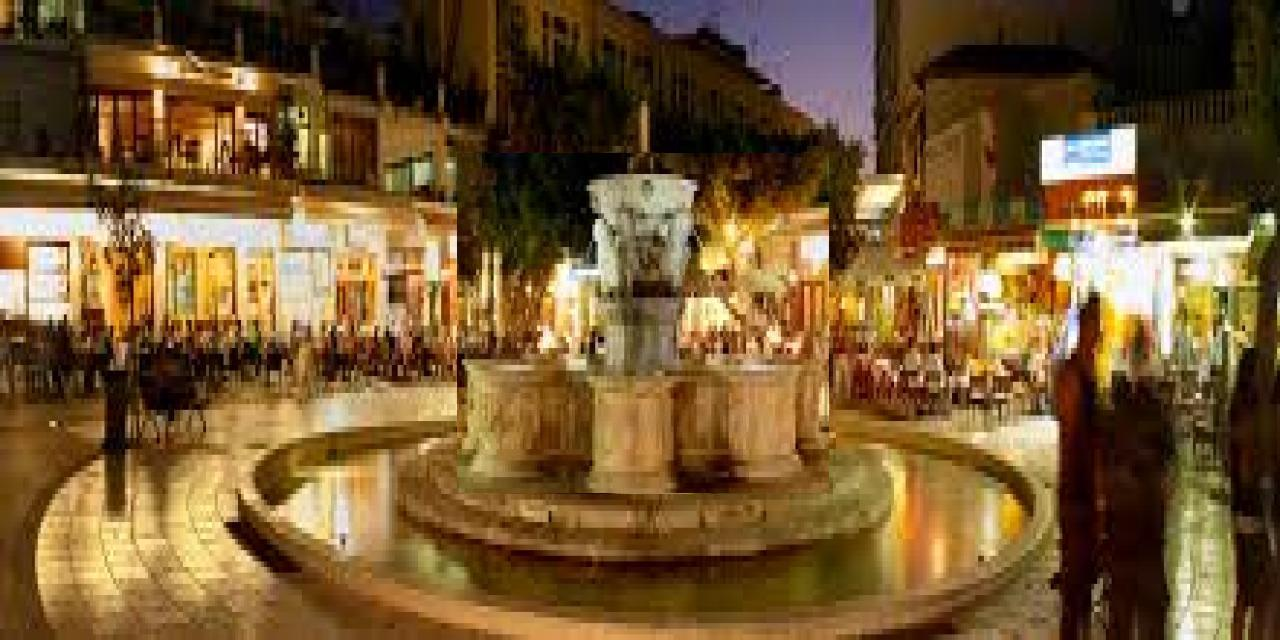Liontaria: (458, 154, 830, 494)
